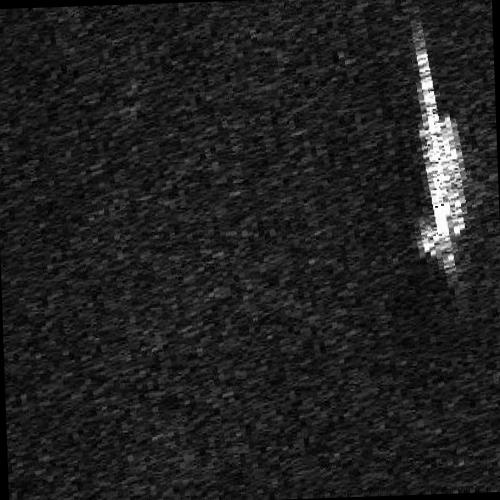ship: (414, 35, 467, 276)
